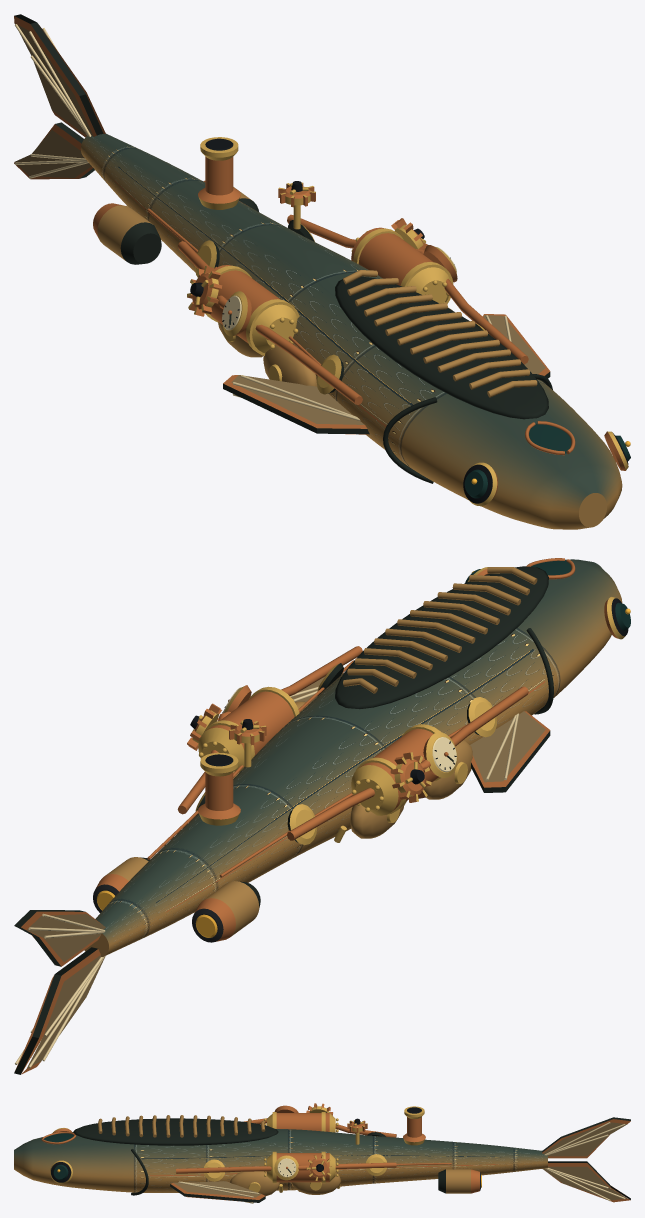
3 renders of one model, top to bottom at view 1: azimuth 30°, elevation 25°; view 2: azimuth 150°, elevation 25°; view 3: azimuth 270°, elevation 25°, orthographic. The views are drawn at different scales.
Visible parts, largest first — view 1: remora_hull; view 2: remora_hull; view 3: remora_hull.
Boxes of the visible parts, bbox=[...] form: remora_hull: bbox=[14, 14, 630, 529]; remora_hull: bbox=[14, 558, 630, 1074]; remora_hull: bbox=[14, 1103, 630, 1203].
Bounding box in the file's own units: 10.78 × 6.21 × 38.
1 material, 1 textured.
